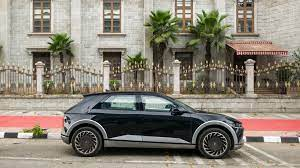Honda Ioniq: (53, 85, 254, 160)
